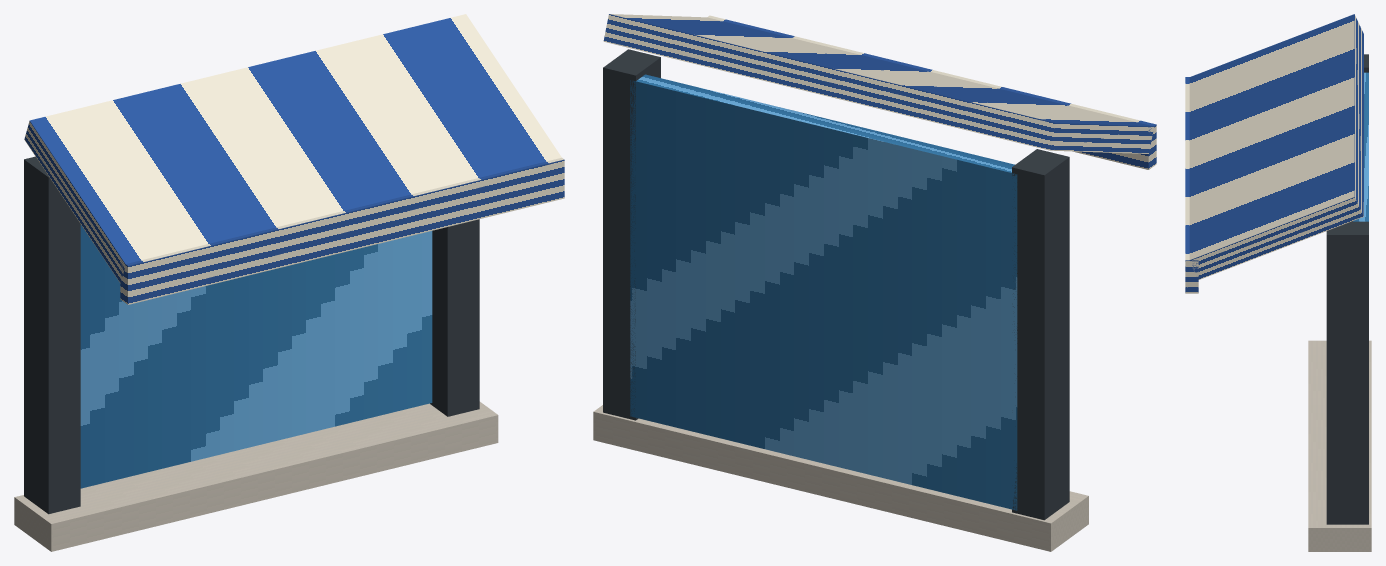
File: window-awning-lod1.glb
3 renders of one model, left to right at view 1: azimuth 30°, elevation 25°; view 2: azimuth 150°, elevation 25°; view 3: azimuth 270°, elevation 25°, orthographic. The views are drawn at different scales.
Parts seen in each view (by area): view 1: window-awning-lod1; view 2: window-awning-lod1; view 3: window-awning-lod1.
Part boxes in pixels (left/top/right/bottom): window-awning-lod1: left=14, top=14, right=564, bottom=551; window-awning-lod1: left=593, top=14, right=1156, bottom=551; window-awning-lod1: left=1185, top=14, right=1371, bottom=551.
Size of the model in its own units: 1.68 by 1.47 by 0.705.
Materials: 1 (1 with a texture image).
